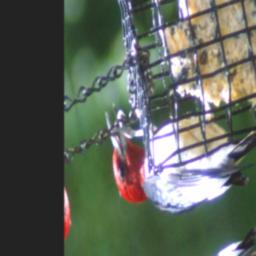Woodpecker: (100, 13, 256, 254)
